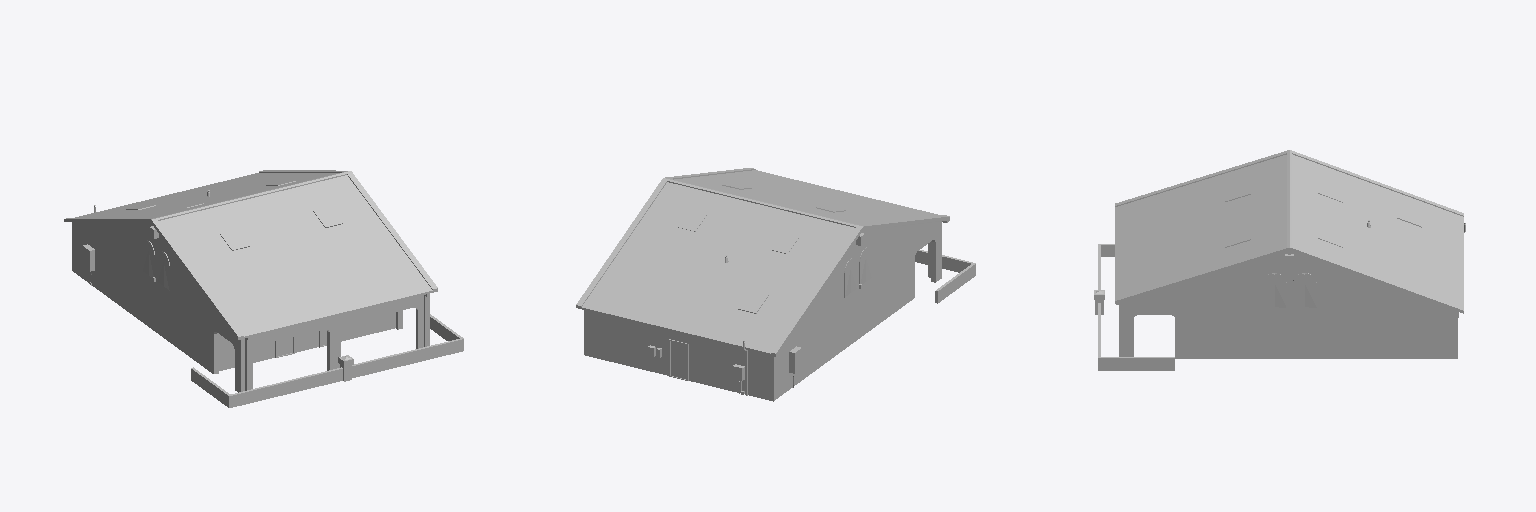
The model's file is house9.obj.
The picture shows the model from 3 angles: view 1: azimuth 30°, elevation 25°; view 2: azimuth 150°, elevation 25°; view 3: azimuth 270°, elevation 25°; orthographic projection.
Visible parts, largest first — view 1: City_building_041.001; view 2: City_building_041.001; view 3: City_building_041.001.
Boxes of the visible parts, x1,y1,x2,y2 form: City_building_041.001: [64, 170, 463, 407]; City_building_041.001: [576, 168, 975, 401]; City_building_041.001: [1094, 150, 1465, 370].
Bounding box in the file's own units: 2.02 × 0.9416 × 2.77.